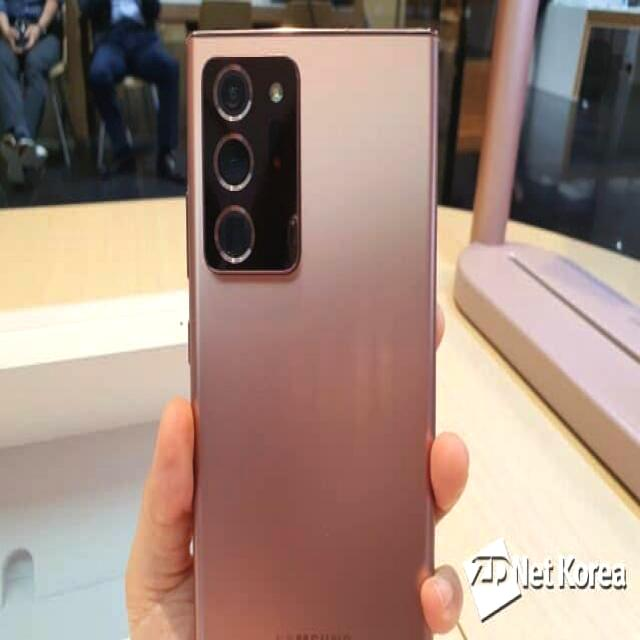phone: (188, 26, 437, 640)
